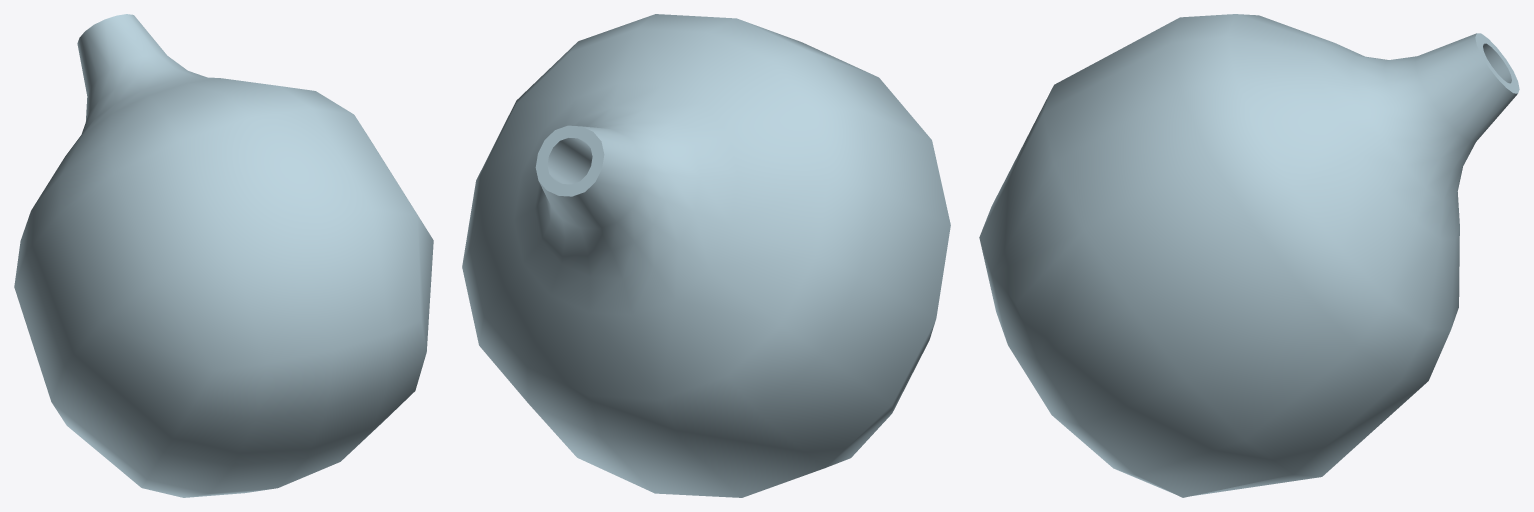
Rendered from Seerosensaft_bottle.glb.
3 views of the same model, side by side, from view 1: azimuth 30°, elevation 25°; view 2: azimuth 150°, elevation 25°; view 3: azimuth 270°, elevation 25° (orthographic). The views are drawn at different scales.
Parts seen in each view (by area): view 1: SeeRosensaft; view 2: SeeRosensaft; view 3: SeeRosensaft.
Part boxes in pixels (bbox=[...]): SeeRosensaft: bbox=[14, 14, 433, 497]; SeeRosensaft: bbox=[462, 14, 950, 497]; SeeRosensaft: bbox=[979, 14, 1519, 497].
Size of the model in its own units: 0.2146 by 0.221 by 0.2469.
3 materials, 3 textured.
